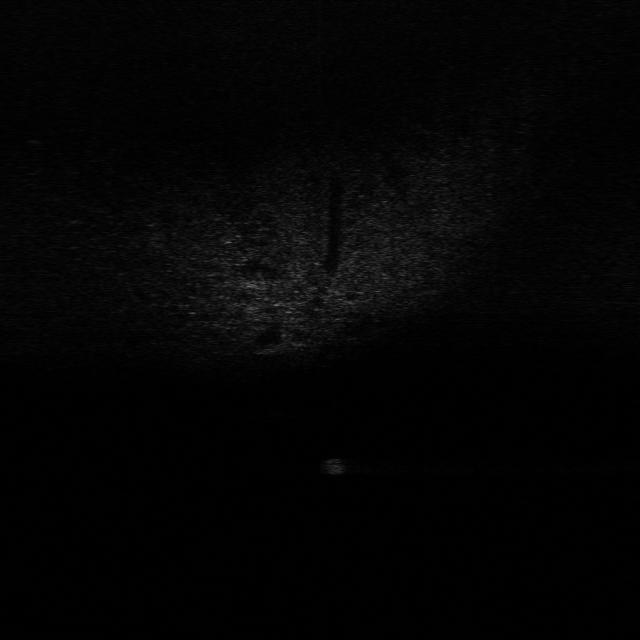cylinder: (326, 457, 353, 479)
